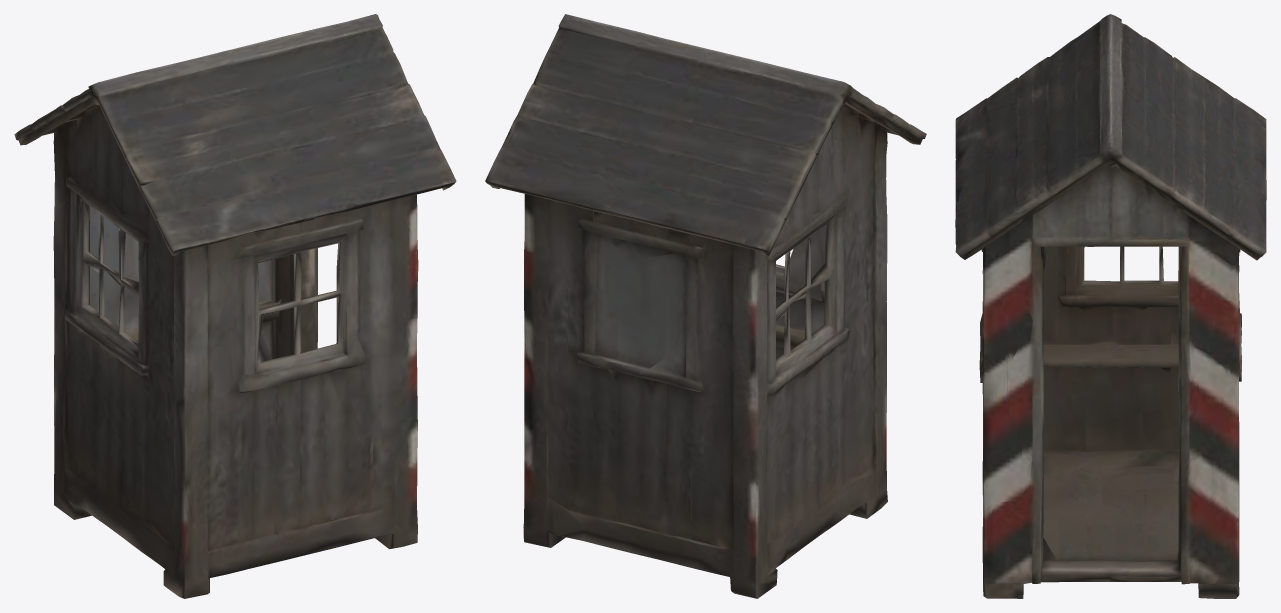
File: prop_sentry_box.glb
The picture shows the model from 3 angles, left to right: view 1: azimuth 30°, elevation 25°; view 2: azimuth 150°, elevation 25°; view 3: azimuth 270°, elevation 25°; orthographic projection. The views are drawn at different scales.
Parts seen in each view (by area): view 1: tripo_node_6b7cb46f-09c5-4b5b-94b7-c547ce9912fa; view 2: tripo_node_6b7cb46f-09c5-4b5b-94b7-c547ce9912fa; view 3: tripo_node_6b7cb46f-09c5-4b5b-94b7-c547ce9912fa.
Boxes of the visible parts, bbox=[...] form: tripo_node_6b7cb46f-09c5-4b5b-94b7-c547ce9912fa: bbox=[14, 14, 456, 598]; tripo_node_6b7cb46f-09c5-4b5b-94b7-c547ce9912fa: bbox=[485, 14, 926, 598]; tripo_node_6b7cb46f-09c5-4b5b-94b7-c547ce9912fa: bbox=[955, 14, 1266, 598].
Bounding box in the file's own units: 0.6234 × 1 × 0.608.
1 material, 1 textured.
